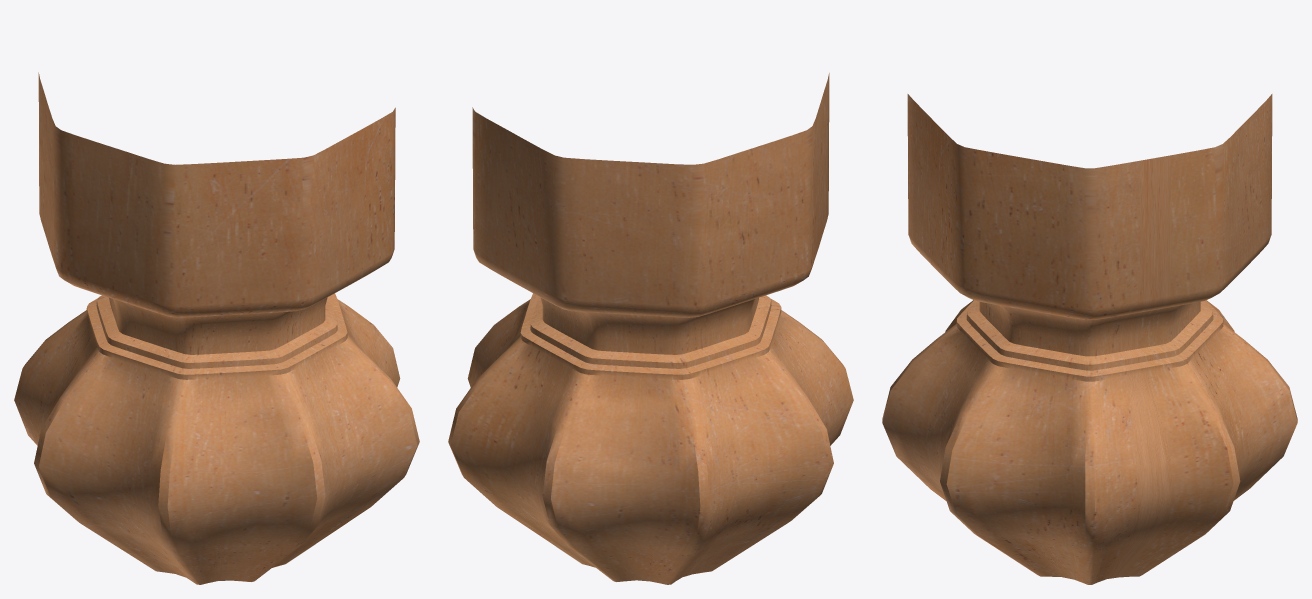
File: feet.draco.glb
3 renders of one model, left to right at view 1: azimuth 30°, elevation 25°; view 2: azimuth 150°, elevation 25°; view 3: azimuth 270°, elevation 25°, orthographic.
Parts seen in each view (by area): view 1: Wood_Object; view 2: Wood_Object; view 3: Wood_Object.
Part boxes in pixels (box(x1,y1,x2,y2)): Wood_Object: box(14, 72, 419, 584); Wood_Object: box(448, 73, 853, 584); Wood_Object: box(882, 94, 1297, 584).
Bounding box in the file's own units: 0.1145 × 0.1412 × 0.1145.
1 material, 1 textured.
